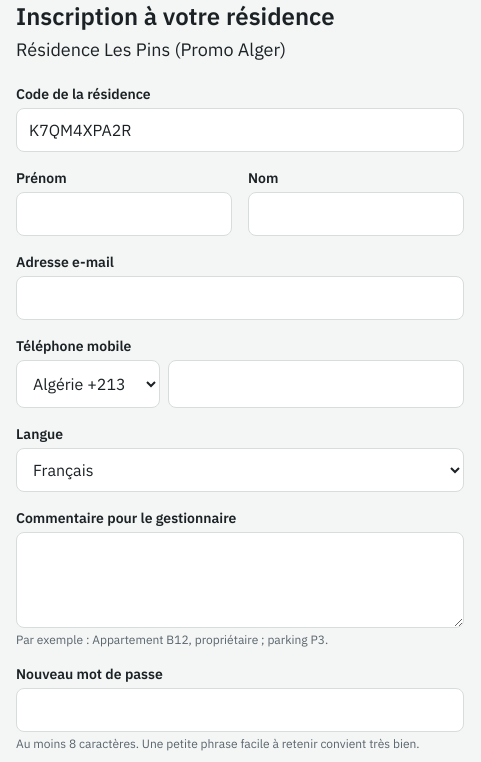
Test case: registration by QR code (D2, D3, ADR-034) › D2_D3_theFormSendsTheCodeCommentKeyAndAltchaProofThenAsksToCheckTheMailbox
This screenshot has width=481, height=762.
Expected: the text "Résidence Les Pins (Promo Alger)" is shown, x1=16 y1=38 x2=286 y2=61
Type "Samia" into the field labelled "Prénom" at (124,214), box x1=16 y1=192 x2=232 y2=236
Type "Inscrite" into the field labelled "Nom" at (356,214), box x1=248 y1=192 x2=464 y2=236
Type "samia@example.dz" into the field labelled "Adresse e-mail" at (240,298), box x1=16 y1=276 x2=464 y2=320
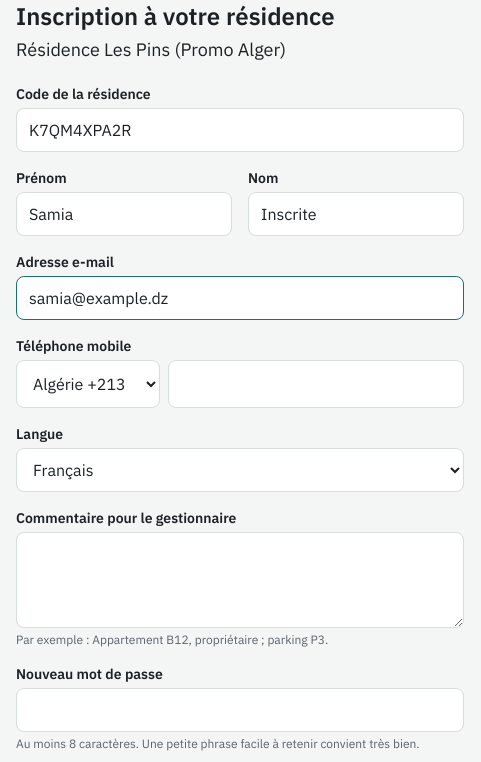
Type "0661234567" into the field named "Téléphone mobile" at (316,384), box x1=168 y1=360 x2=464 y2=408
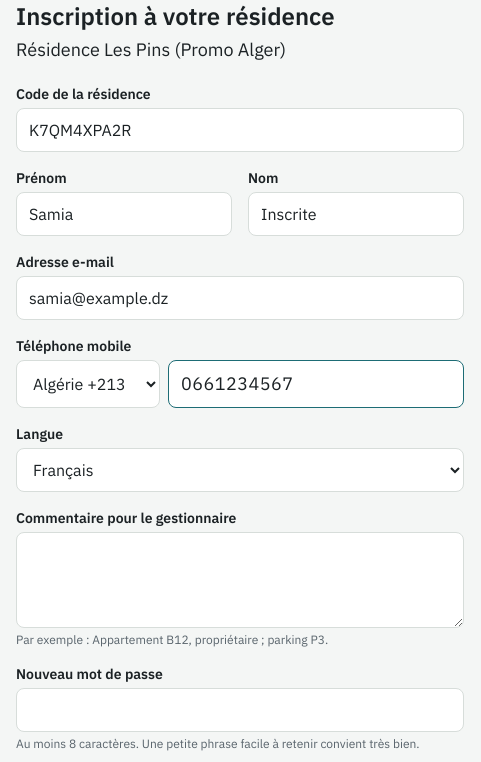
Type "Appartement B12, propriétaire" into the text box labelled "Commentaire pour le gestionnaire" at (240,580), box x1=16 y1=532 x2=464 y2=628
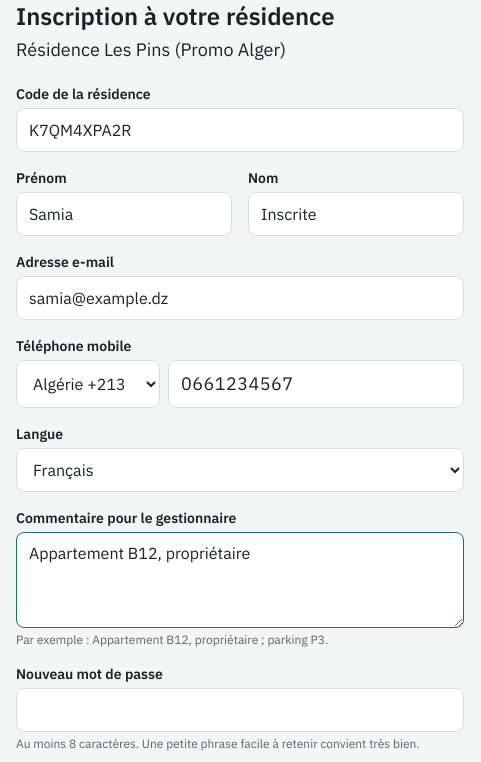
Type "Une résidence bien tenue" into the password field labelled "Nouveau mot de passe" at (240,710), box x1=16 y1=688 x2=464 y2=732
(page scrolled)
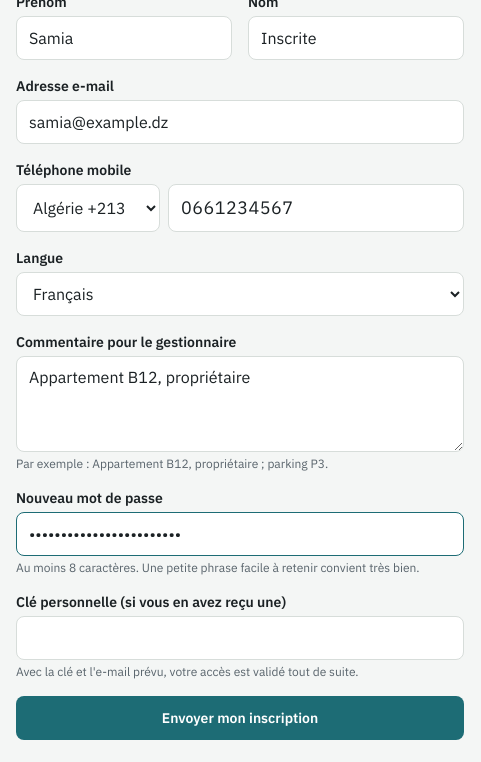
Type "4XPA-K7QM-9RTW" into the field labelled "Clé personnelle (si vous en avez reçu une)" at (240,638), box x1=16 y1=616 x2=464 y2=660
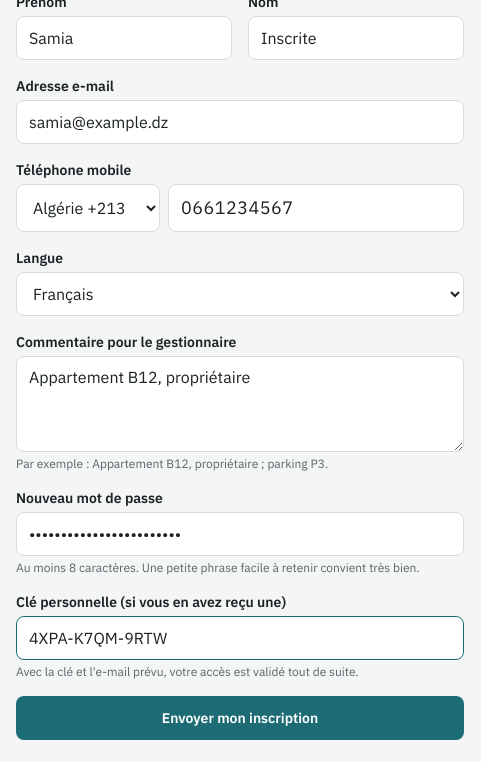
Click the button "Envoyer mon inscription" at (240,718), box x1=16 y1=696 x2=464 y2=740
(page scrolled)
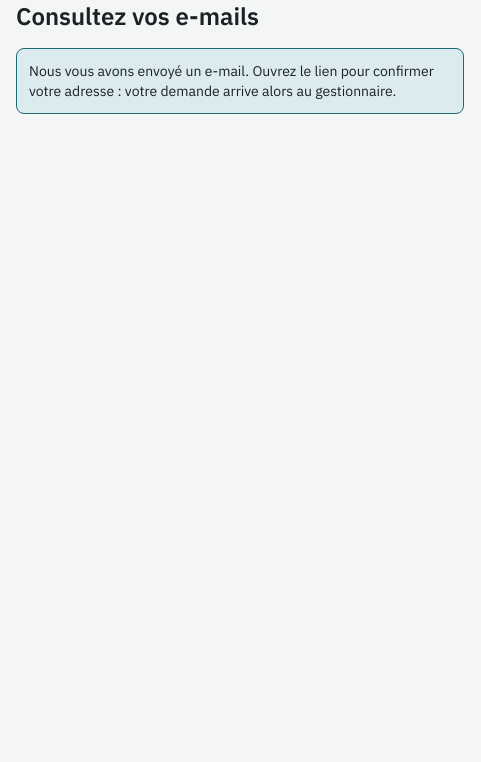
Expected: the message shows "Nous vous avons envoyé un e-mail", x1=29 y1=62 x2=434 y2=100
